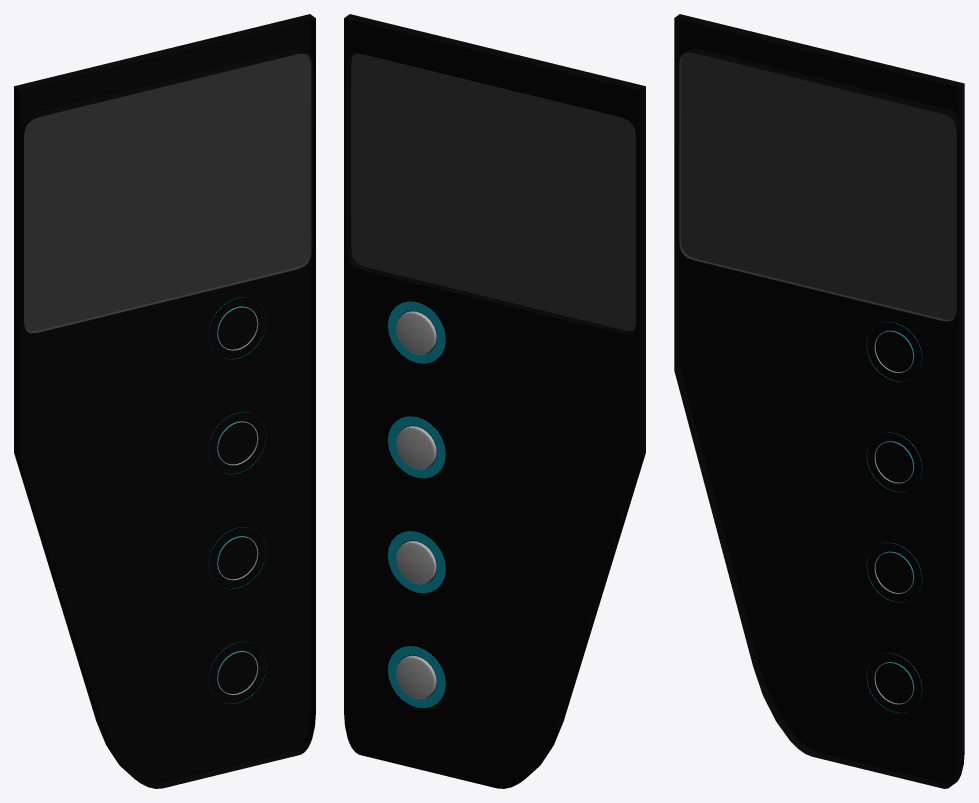
Rendered from BathroomScreen.fbx.
The picture shows the model from 3 angles, left to right: view 1: azimuth 30°, elevation 25°; view 2: azimuth 150°, elevation 25°; view 3: azimuth 330°, elevation 25°; orthographic projection. The views are drawn at different scales.
Parts seen in each view (by area): view 1: BathroomScreen; view 2: BathroomScreen; view 3: BathroomScreen.
Part boxes in pixels (x1=…): BathroomScreen: x1=14, y1=14, x2=315, y2=788; BathroomScreen: x1=344, y1=14, x2=645, y2=788; BathroomScreen: x1=674, y1=14, x2=964, y2=788.
Size of the model in its own units: 29.62 by 70.04 by 1.52.
